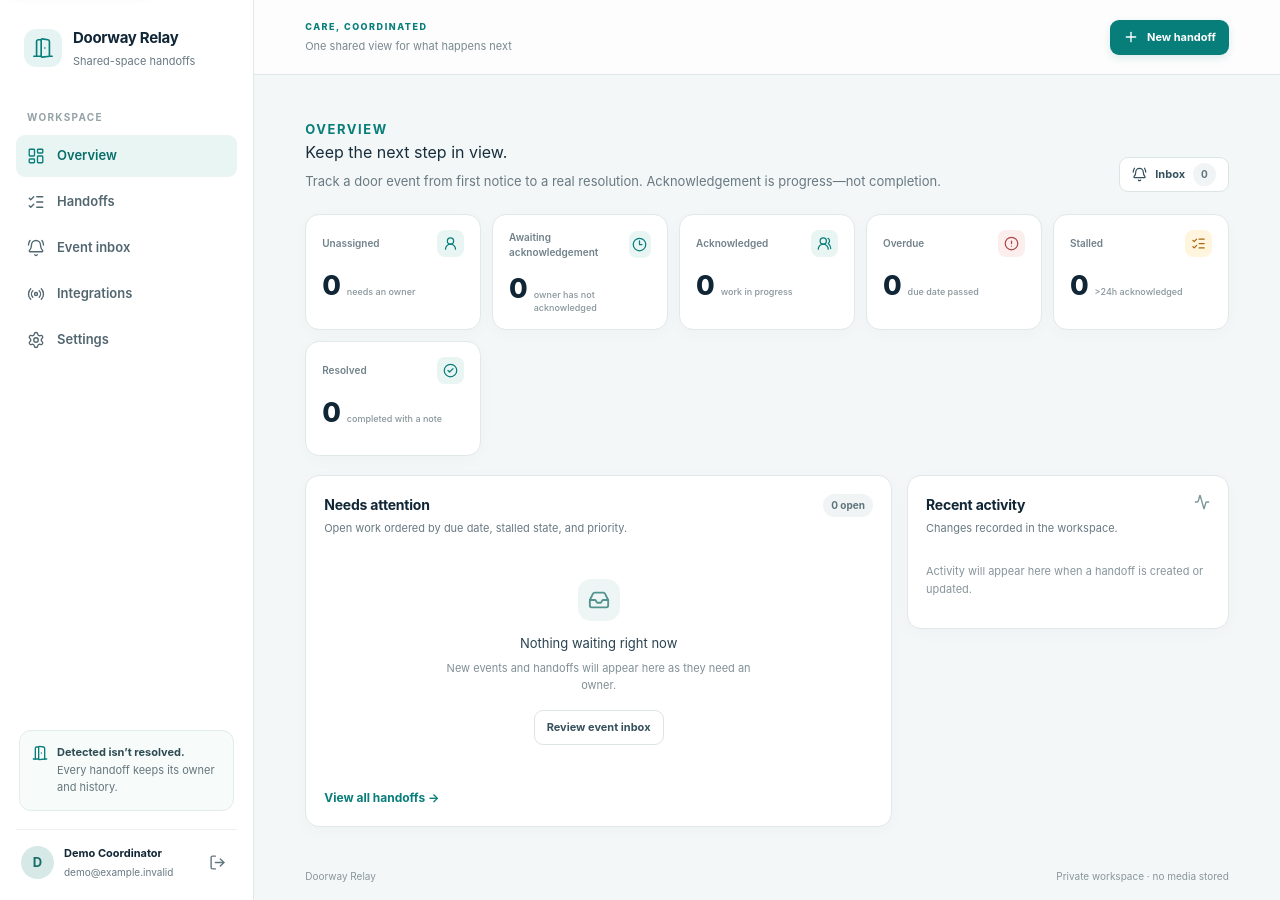
Scenario: application routes and authenticated shell › labels Playground inbox events as simulation data and keeps WHEP video out of the inbox
The image size is (1280, 900).
Expected: the heading "Keep the next step in view." is shown, x1=305 y1=142 x2=507 y2=162
What coordinates should you click on to do the following:
click the link "Event inbox"
I would click on:
 (79, 248)
Its box is x1=27 y1=239 x2=130 y2=257.
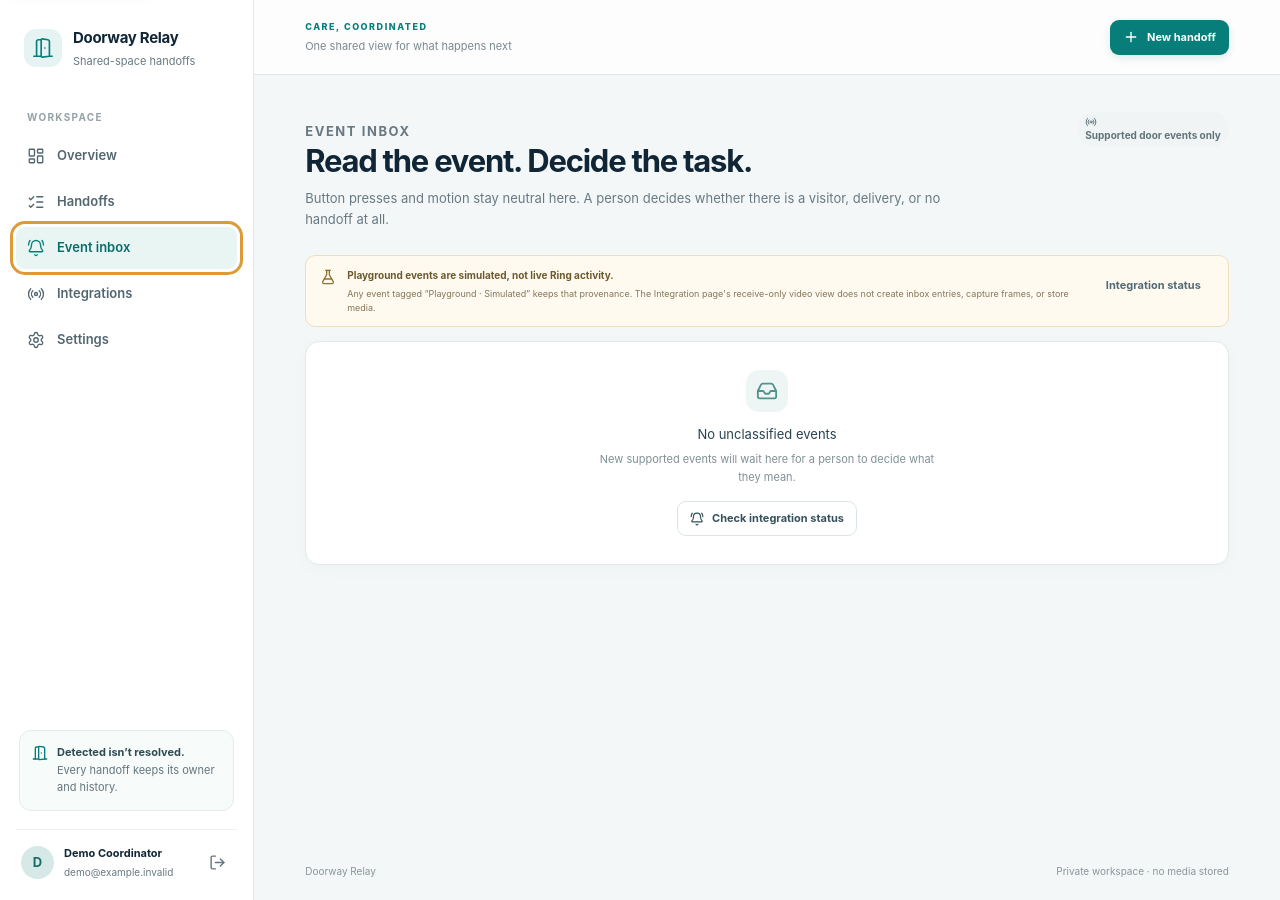
Expected: the heading "Read the event. Decide the task." is shown, x1=305 y1=142 x2=752 y2=179
Expected: the text "Playground events are simulated, not live Ring activity." is shown, x1=347 y1=269 x2=614 y2=281
Expected: the text "receive-only video view does not create inbox entries" is shown, x1=347 y1=288 x2=1069 y2=312
